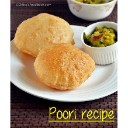poori: (33, 45, 95, 91), (14, 13, 76, 57)
